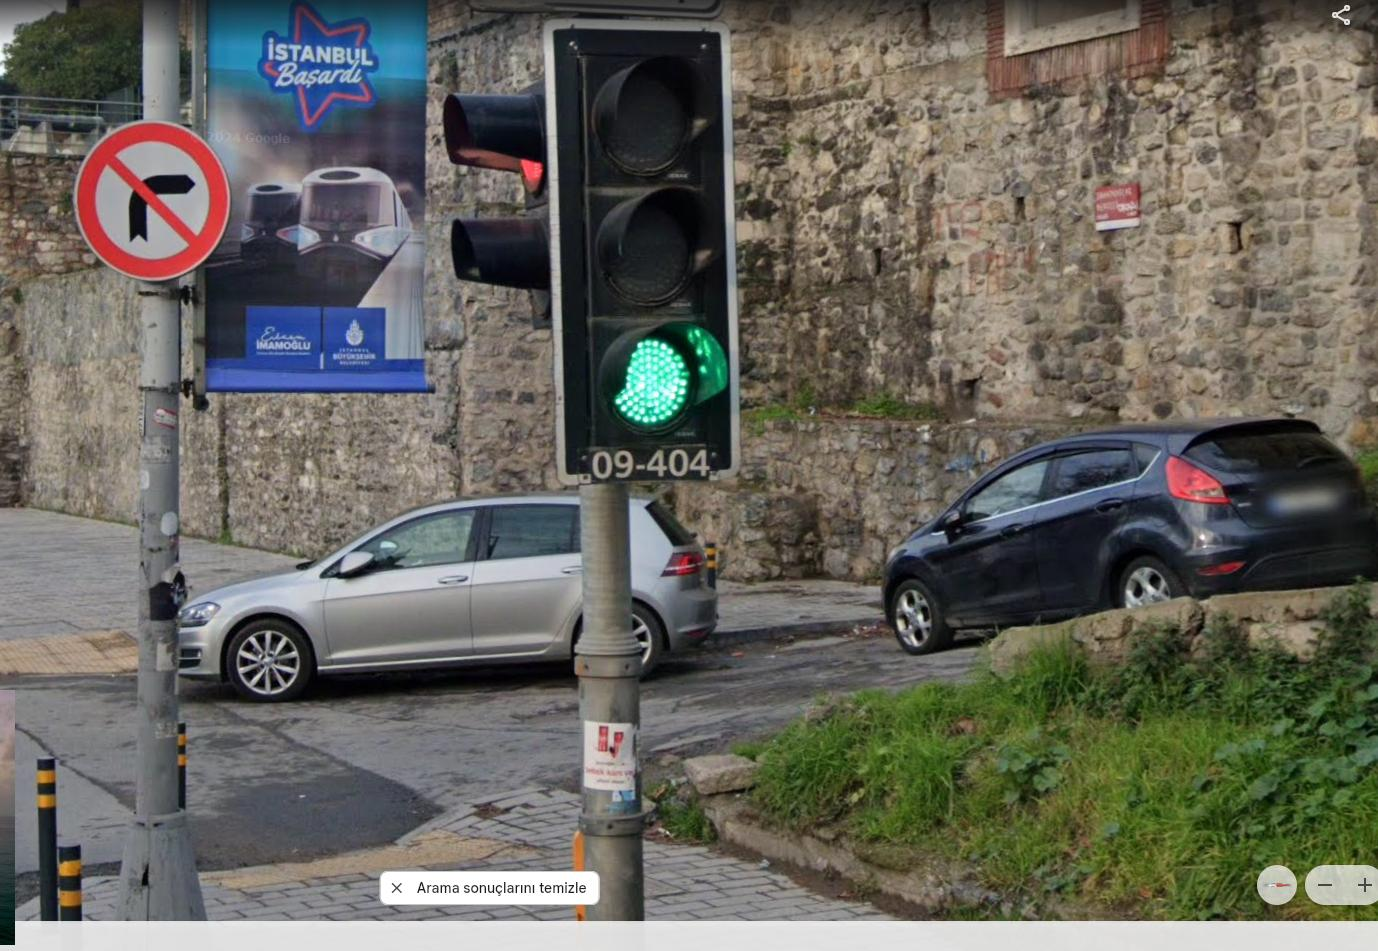greenlight: (552, 23, 732, 479)
rightturnsareforbidden: (80, 118, 223, 278)
